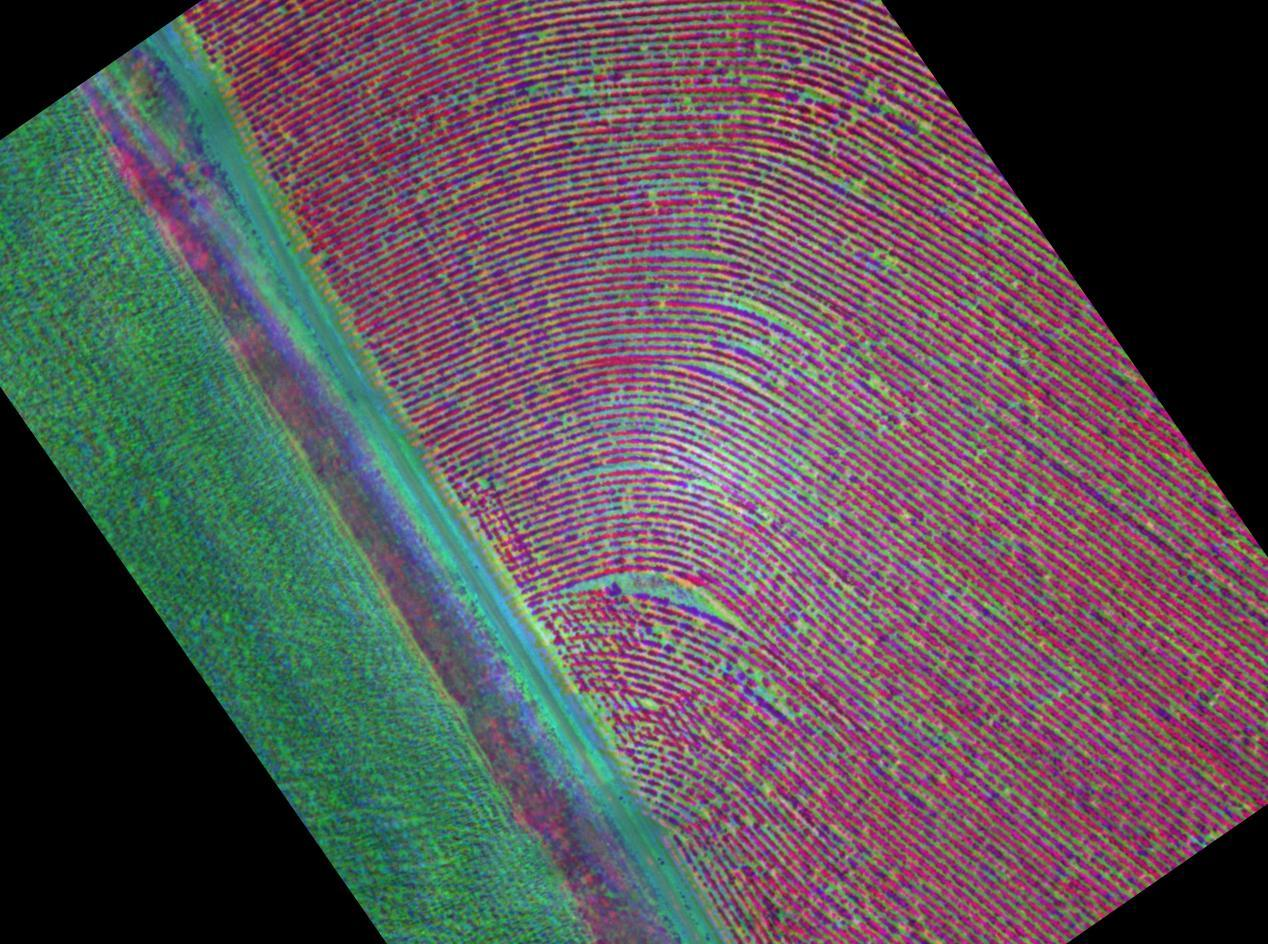dc: (573, 543, 738, 661), (511, 8, 649, 148), (681, 303, 830, 407), (781, 33, 902, 156), (671, 448, 823, 525)
